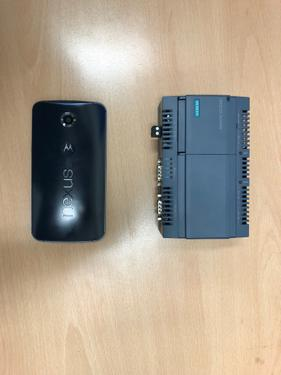device: (151, 95, 250, 240)
